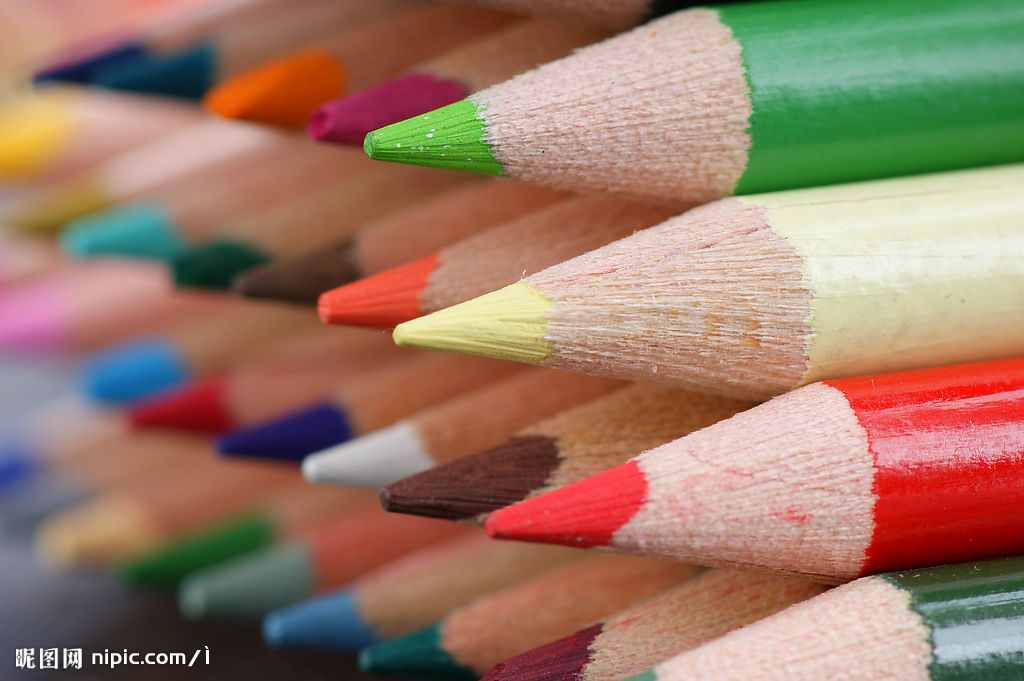pen_tip: (458, 379, 1024, 579), (378, 198, 884, 389), (312, 7, 818, 189)
